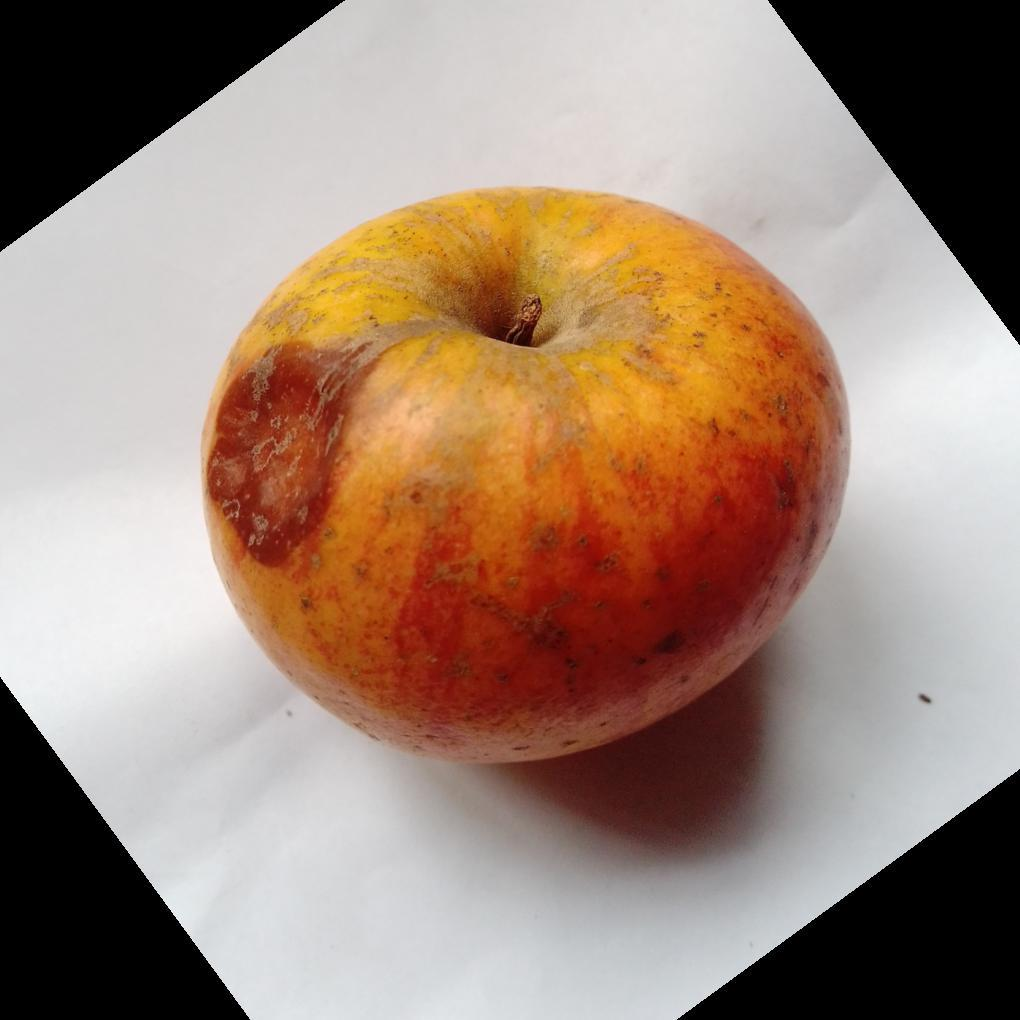FreshOrange: (199, 187, 851, 770)
